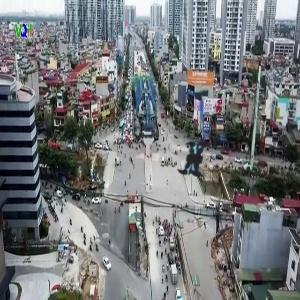drone: (149, 110, 250, 211)
